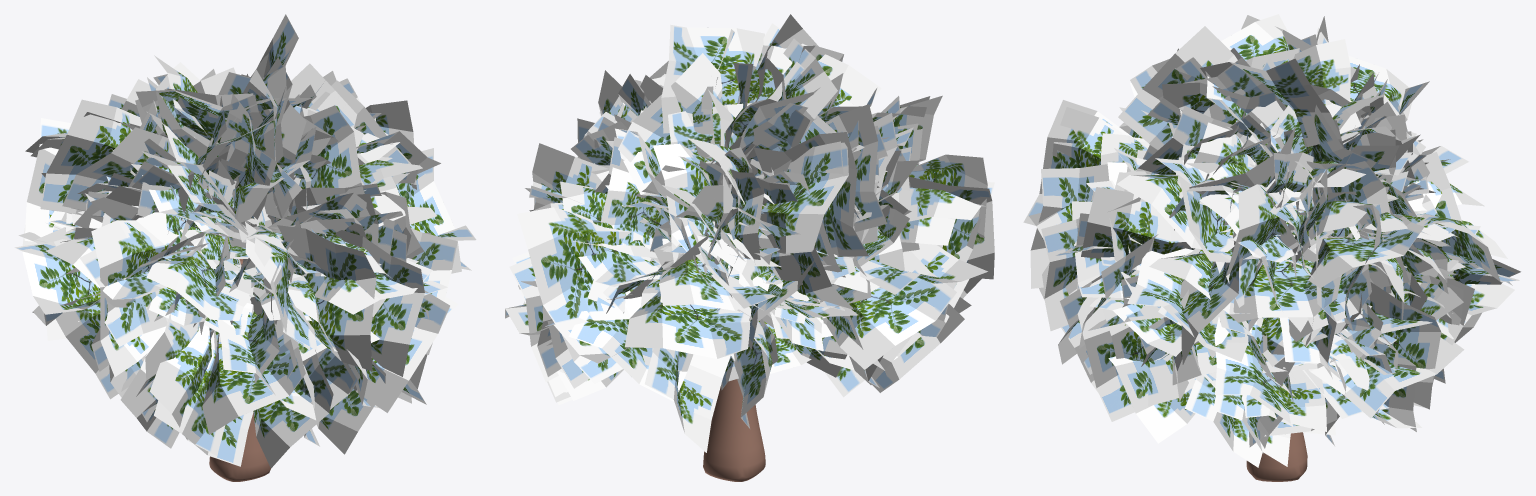
File: Tree.fbx
3 renders of one model, left to right at view 1: azimuth 30°, elevation 25°; view 2: azimuth 150°, elevation 25°; view 3: azimuth 270°, elevation 25°, orthographic.
Visible parts, largest first — view 1: Cylinder|Plane|Dupli|386, Cylinder|Plane|Dupli|111, Cylinder|Plane|Dupli|74, Cylinder|Plane|Dupli|428, Cylinder|Plane|Dupli|377, Cylinder|Plane|Dupli|21, Cylinder|Plane|Dupli|346, Cylinder|Plane|Dupli|113, Cylinder|Plane|Dupli|418, Cylinder|Plane|Dupli|97, Cylinder|Plane|Dupli|379, Cylinder|Plane|Dupli|424 (+61 smaller); view 2: Cylinder|Plane|Dupli|138, Cylinder|Plane|Dupli|404, Cylinder|Plane|Dupli|67, Cylinder|Plane|Dupli|207, Cylinder|Plane|Dupli|141, Cylinder, Cylinder|Plane|Dupli|68, Cylinder|Plane|Dupli|74, Cylinder|Plane|Dupli|445, Cylinder|Plane|Dupli|189, Cylinder|Plane|Dupli|188, Cylinder|Plane|Dupli|70 (+67 smaller); view 3: Cylinder|Plane|Dupli|269, Cylinder|Plane|Dupli|334, Cylinder|Plane|Dupli|285, Cylinder|Plane|Dupli|55, Cylinder|Plane|Dupli|90, Cylinder|Plane|Dupli|381, Cylinder|Plane|Dupli|250, Cylinder|Plane|Dupli|221, Cylinder|Plane|Dupli|207, Cylinder|Plane|Dupli|251, Cylinder|Plane|Dupli|386, Cylinder|Plane|Dupli|92 (+78 smaller).
Boxes of the visible parts, <box> form: Cylinder|Plane|Dupli|386: <box>277,225,376,371</box>; Cylinder|Plane|Dupli|111: <box>91,212,178,346</box>; Cylinder|Plane|Dupli|74: <box>40,99,141,215</box>; Cylinder|Plane|Dupli|428: <box>202,333,305,434</box>; Cylinder|Plane|Dupli|377: <box>335,230,424,376</box>; Cylinder|Plane|Dupli|21: <box>146,249,253,320</box>; Cylinder|Plane|Dupli|346: <box>253,350,333,468</box>; Cylinder|Plane|Dupli|113: <box>14,239,100,314</box>; Cylinder|Plane|Dupli|418: <box>149,324,225,455</box>; Cylinder|Plane|Dupli|97: <box>299,105,369,217</box>; Cylinder|Plane|Dupli|379: <box>353,290,449,412</box>; Cylinder|Plane|Dupli|424: <box>154,330,253,466</box>; Cylinder|Plane|Dupli|138: <box>517,207,641,328</box>; Cylinder|Plane|Dupli|404: <box>821,251,956,369</box>; Cylinder|Plane|Dupli|67: <box>625,291,751,358</box>; Cylinder|Plane|Dupli|207: <box>661,24,764,133</box>; Cylinder|Plane|Dupli|141: <box>644,348,730,452</box>; Cylinder: <box>703,379,765,481</box>; Cylinder|Plane|Dupli|68: <box>760,142,848,252</box>; Cylinder|Plane|Dupli|74: <box>754,132,868,257</box>; Cylinder|Plane|Dupli|445: <box>618,53,723,162</box>; Cylinder|Plane|Dupli|189: <box>653,242,742,310</box>; Cylinder|Plane|Dupli|188: <box>568,256,687,401</box>; Cylinder|Plane|Dupli|70: <box>826,104,887,231</box>; Cylinder|Plane|Dupli|269: <box>1214,317,1326,431</box>; Cylinder|Plane|Dupli|334: <box>1077,297,1193,421</box>; Cylinder|Plane|Dupli|285: <box>1077,187,1194,290</box>; Cylinder|Plane|Dupli|55: <box>1118,26,1237,149</box>; Cylinder|Plane|Dupli|90: <box>1229,232,1352,322</box>; Cylinder|Plane|Dupli|381: <box>1127,248,1248,361</box>; Cylinder|Plane|Dupli|250: <box>1365,282,1441,409</box>; Cylinder|Plane|Dupli|221: <box>1308,214,1424,288</box>; Cylinder|Plane|Dupli|207: <box>1200,58,1341,146</box>; Cylinder|Plane|Dupli|251: <box>1308,337,1464,418</box>; Cylinder|Plane|Dupli|386: <box>1030,162,1124,288</box>; Cylinder|Plane|Dupli|92: <box>1226,179,1285,307</box>.
Size of the model in its own units: 1411 by 1384 by 1419.
